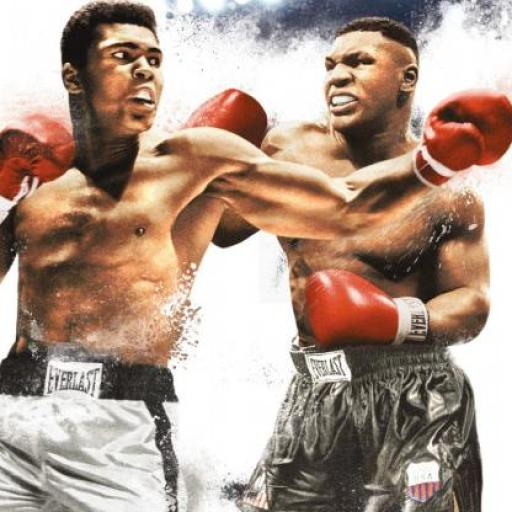Fighting: (2, 5, 510, 512)
